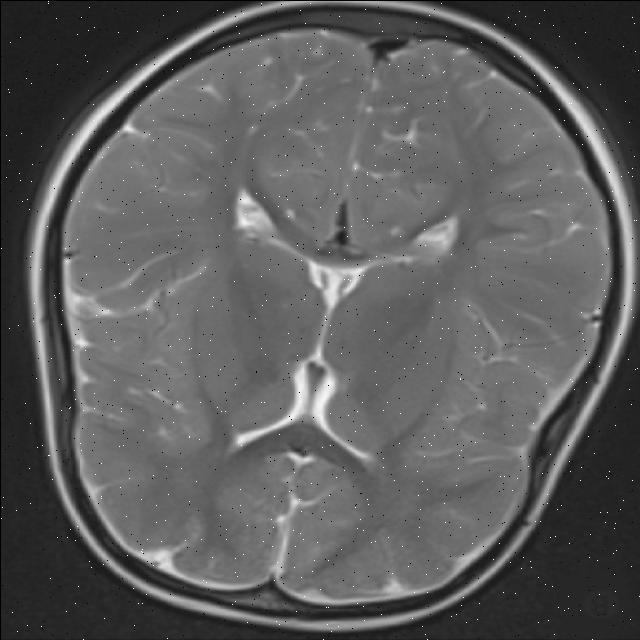No_Tumor: (29, 2, 634, 630)
